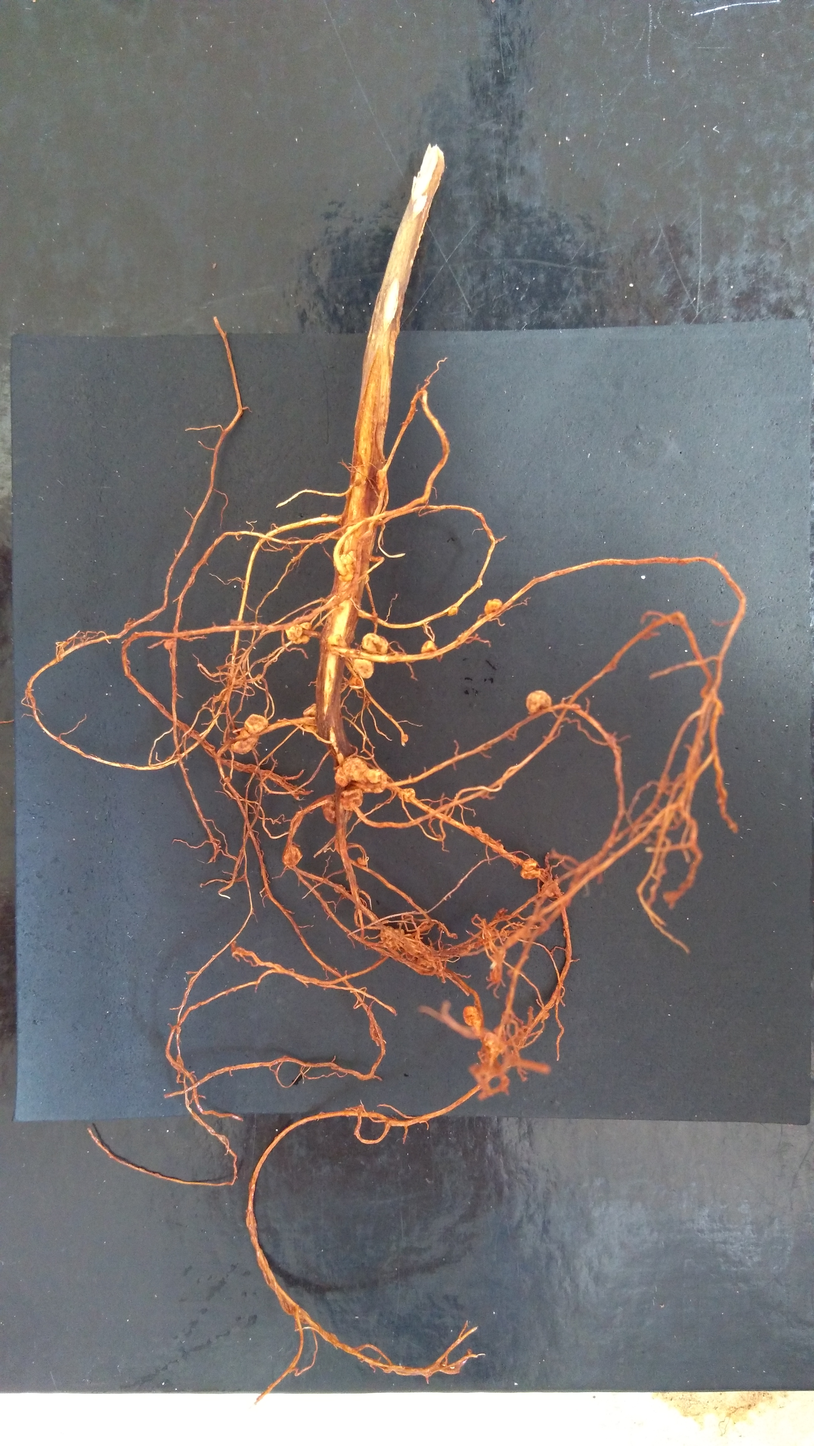nodule: (524, 688, 553, 715), (232, 727, 259, 756), (340, 756, 370, 782), (360, 632, 389, 657), (280, 840, 305, 868), (361, 768, 387, 793), (339, 787, 364, 812), (379, 924, 405, 948), (350, 656, 374, 680), (244, 712, 269, 735), (320, 793, 339, 823), (461, 1004, 482, 1029), (291, 622, 312, 645), (334, 765, 353, 788), (483, 597, 503, 616), (284, 624, 303, 642), (541, 879, 559, 898), (396, 787, 416, 804), (338, 565, 355, 583), (339, 549, 358, 565), (418, 639, 438, 654), (374, 468, 387, 491), (301, 701, 318, 717), (521, 857, 538, 872), (520, 868, 541, 879), (350, 675, 365, 690), (162, 638, 176, 651), (446, 605, 459, 617), (356, 855, 368, 868), (474, 825, 482, 836), (401, 733, 408, 744)
